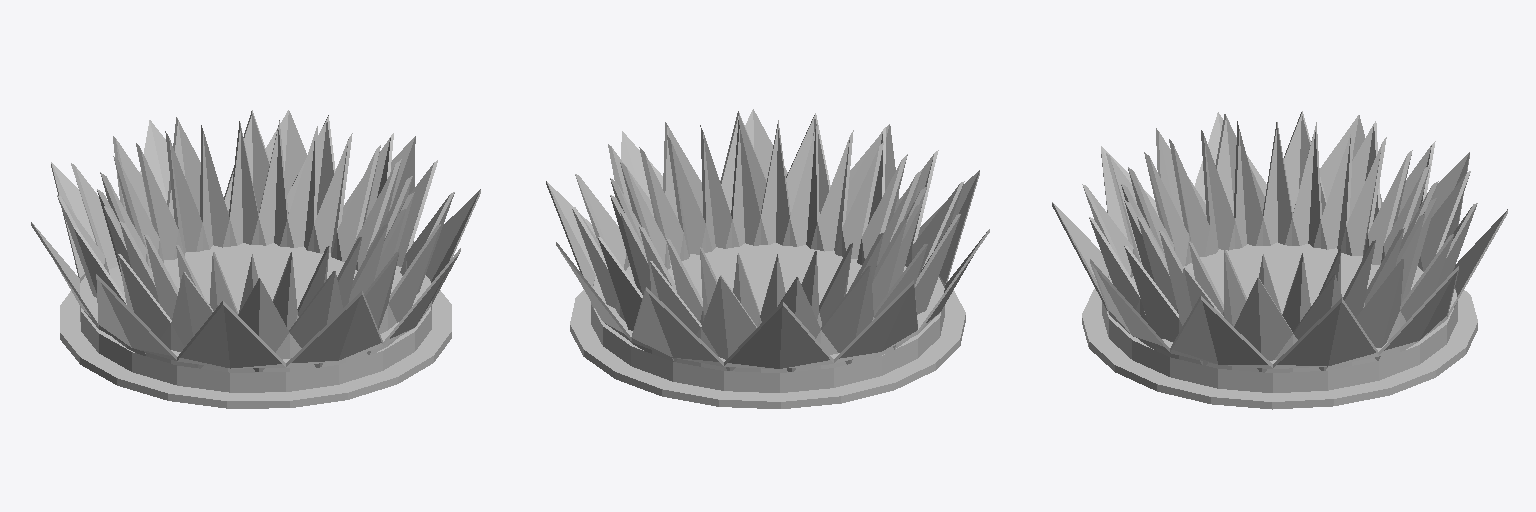
The model's file is portal_abrir_000023.obj.
3 views of the same model, side by side, from view 1: azimuth 30°, elevation 25°; view 2: azimuth 150°, elevation 25°; view 3: azimuth 270°, elevation 25° (orthographic).
Parts seen in each view (by area): view 1: pCylinder1, Cylinder.001, Cylinder; view 2: pCylinder1, Cylinder.001, Cylinder; view 3: pCylinder1, Cylinder.001, Cylinder.
Boxes of the visible parts, box(x1,y1,x2,y2) form: pCylinder1: box(31, 110, 480, 408); Cylinder.001: box(97, 120, 414, 329); Cylinder: box(57, 110, 454, 372); pCylinder1: box(546, 109, 989, 408); Cylinder.001: box(610, 120, 926, 327); Cylinder: box(571, 111, 964, 372); pCylinder1: box(1052, 112, 1507, 409); Cylinder.001: box(1121, 121, 1438, 331); Cylinder: box(1082, 111, 1477, 372).
Size of the model in its own units: 4.22 by 1.47 by 4.38.